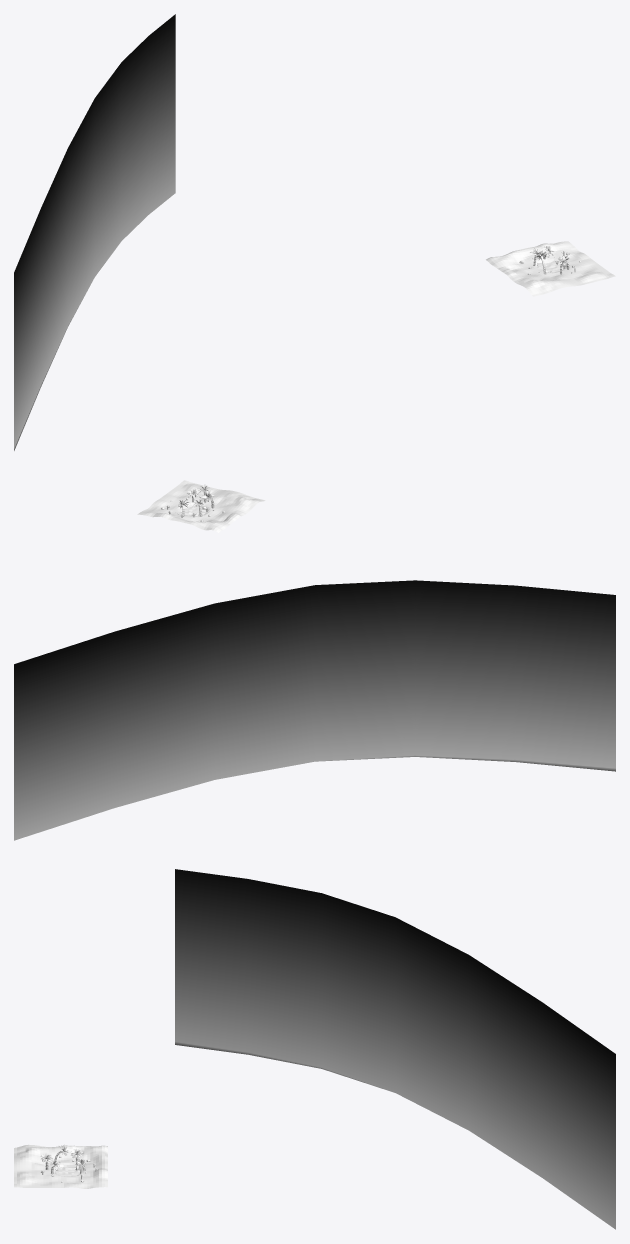
The model's file is uploads_files_2408583_Desert+Render.glb.
The picture shows the model from 3 angles, top to bottom: view 1: azimuth 30°, elevation 25°; view 2: azimuth 150°, elevation 25°; view 3: azimuth 270°, elevation 25°; orthographic projection.
Parts seen in each view (by area): view 1: Plane.003, Plane; view 2: Plane.003, Plane; view 3: Plane.003, Plane.
Boxes of the visible parts, x1,y1,x2,y2 form: Plane.003: [14, 14, 175, 450]; Plane: [486, 241, 615, 296]; Plane.003: [14, 580, 615, 840]; Plane: [137, 480, 265, 532]; Plane.003: [175, 869, 615, 1229]; Plane: [14, 1144, 107, 1188].
Bounding box in the file's own units: 630 × 260 × 643.
9 materials, 1 textured.
